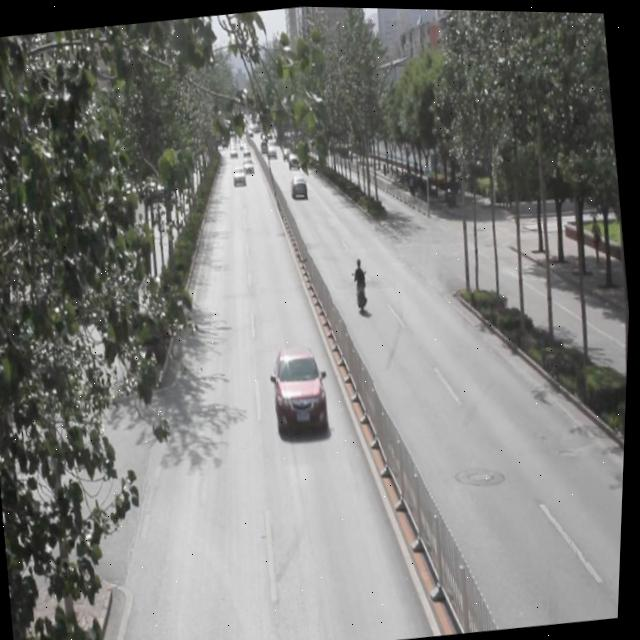car: (268, 341, 335, 437), (289, 171, 310, 197), (231, 164, 248, 186), (243, 156, 256, 173)
